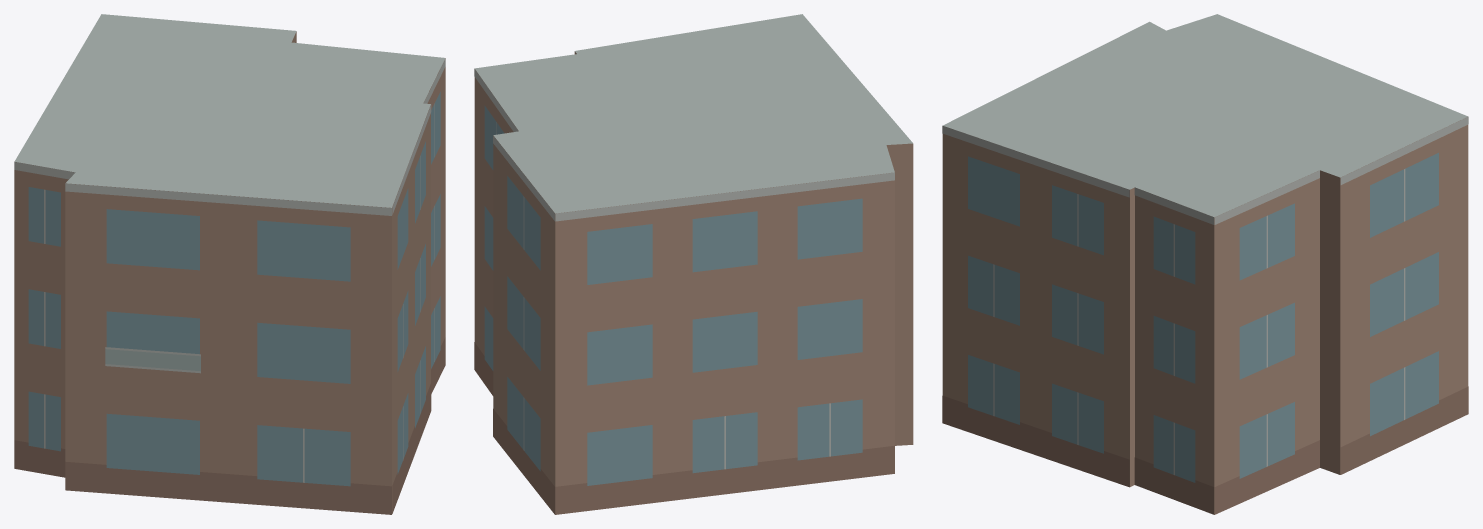
File: survey-upis-32695953.glb
The picture shows the model from 3 angles, left to right: view 1: azimuth 30°, elevation 25°; view 2: azimuth 150°, elevation 25°; view 3: azimuth 270°, elevation 25°; orthographic projection. The views are drawn at different scales.
Visible parts, largest first — view 1: survey-upis-32695953.tmp; view 2: survey-upis-32695953.tmp; view 3: survey-upis-32695953.tmp.
Boxes of the visible parts, <box> form: survey-upis-32695953.tmp: <box>14,14,445,514</box>; survey-upis-32695953.tmp: <box>474,14,913,514</box>; survey-upis-32695953.tmp: <box>942,14,1468,514</box>.
Bounding box in the file's own units: 13.41 × 9.15 × 14.66.
